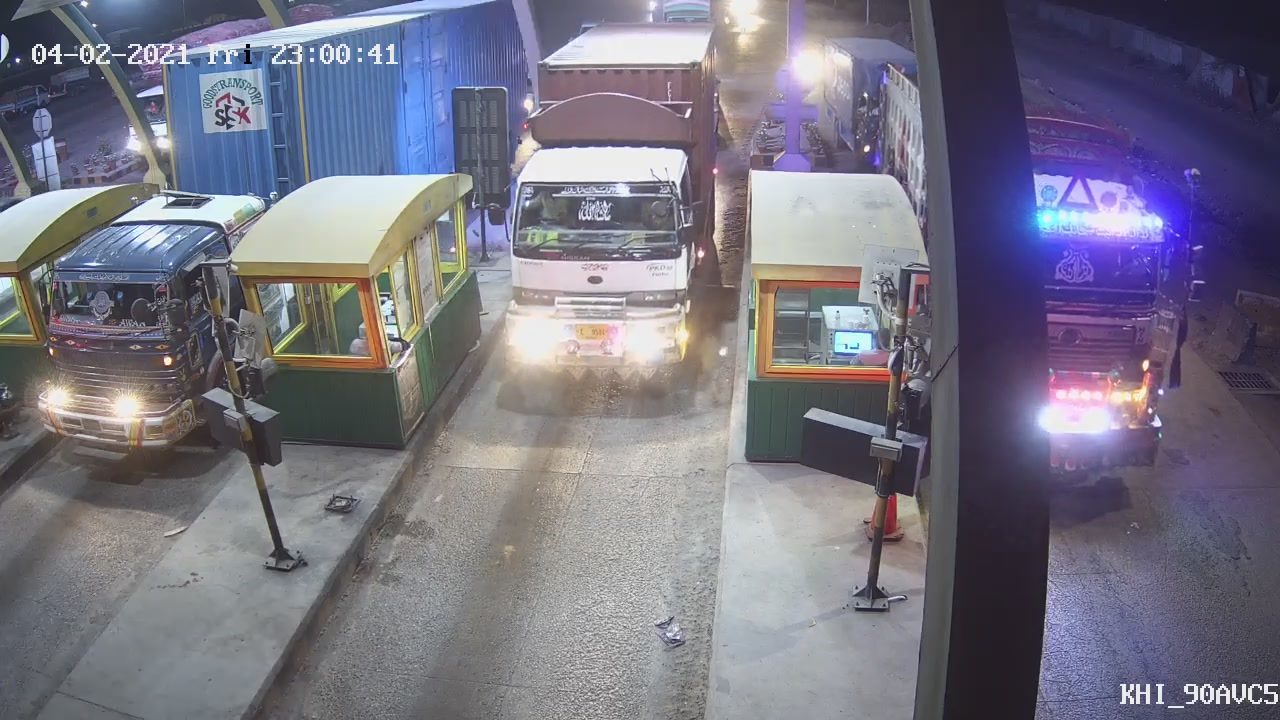F6: (486, 20, 729, 386)
